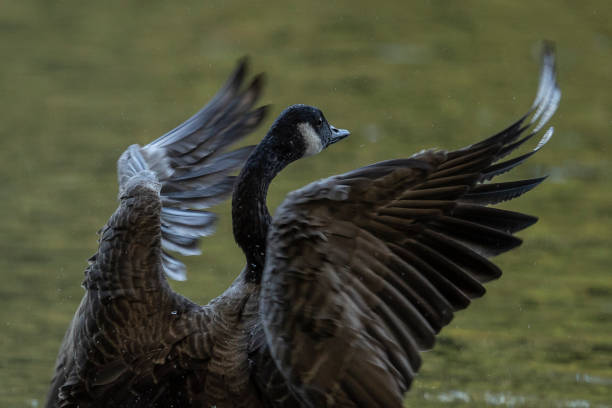goose: (35, 38, 562, 407)
